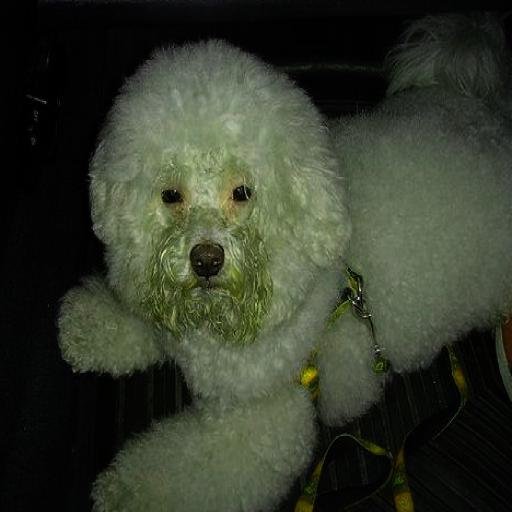dog_face: (95, 53, 314, 311)
